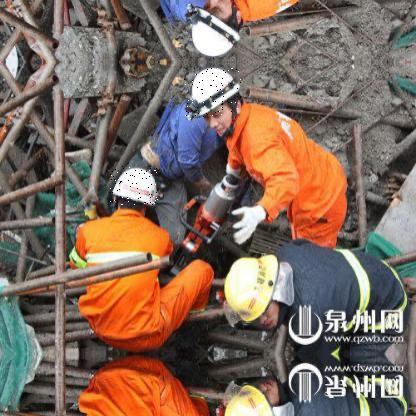safetyhelmet: (223, 254, 278, 324), (184, 68, 242, 122), (110, 166, 159, 206)
